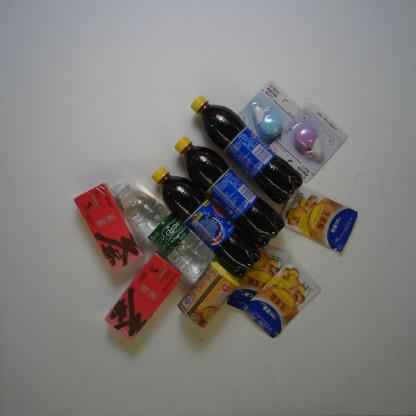Canned Food: (177, 260, 240, 328)
Drink: (175, 136, 285, 248), (191, 94, 302, 203), (151, 167, 262, 276), (111, 181, 215, 279)
Instant Drink: (105, 254, 183, 340), (74, 182, 144, 272)
Seasoner: (243, 260, 321, 338), (275, 181, 359, 253), (226, 240, 291, 320)
Stationery: (266, 102, 348, 184), (234, 81, 304, 159)
